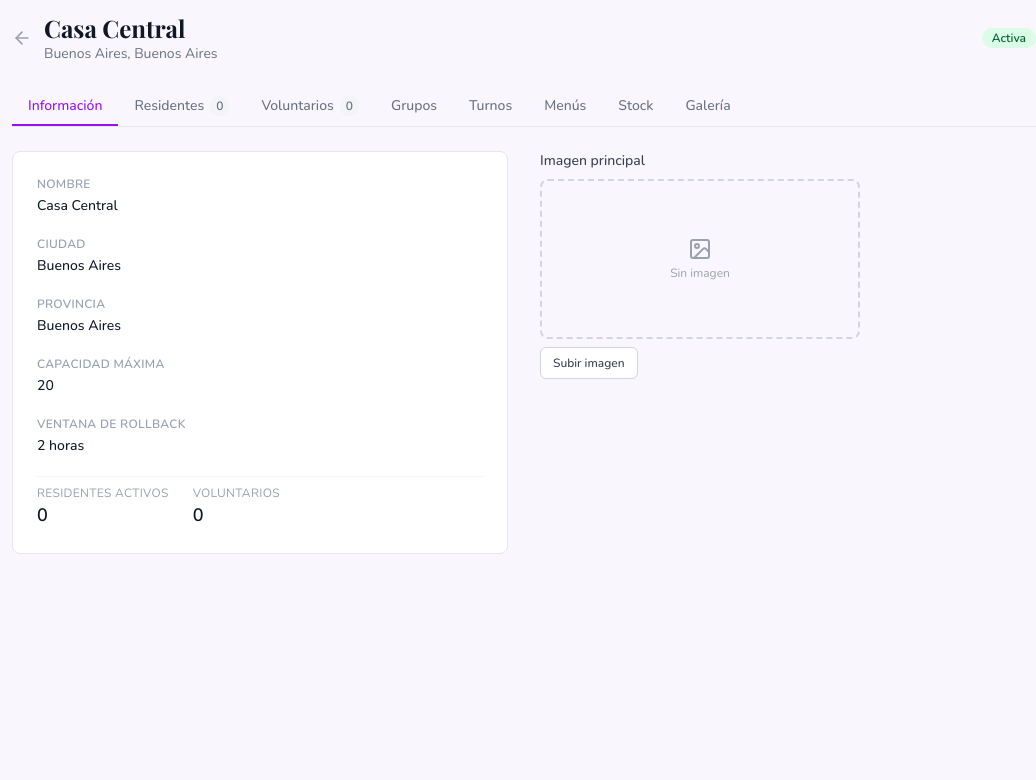
Test: ResidenciaDetailPage — tabs › cambia al tab Voluntarios al hacer clic
The image size is (1036, 780).
Click the tab "Voluntarios 0" at point(310, 107), box [245,88,375,126]
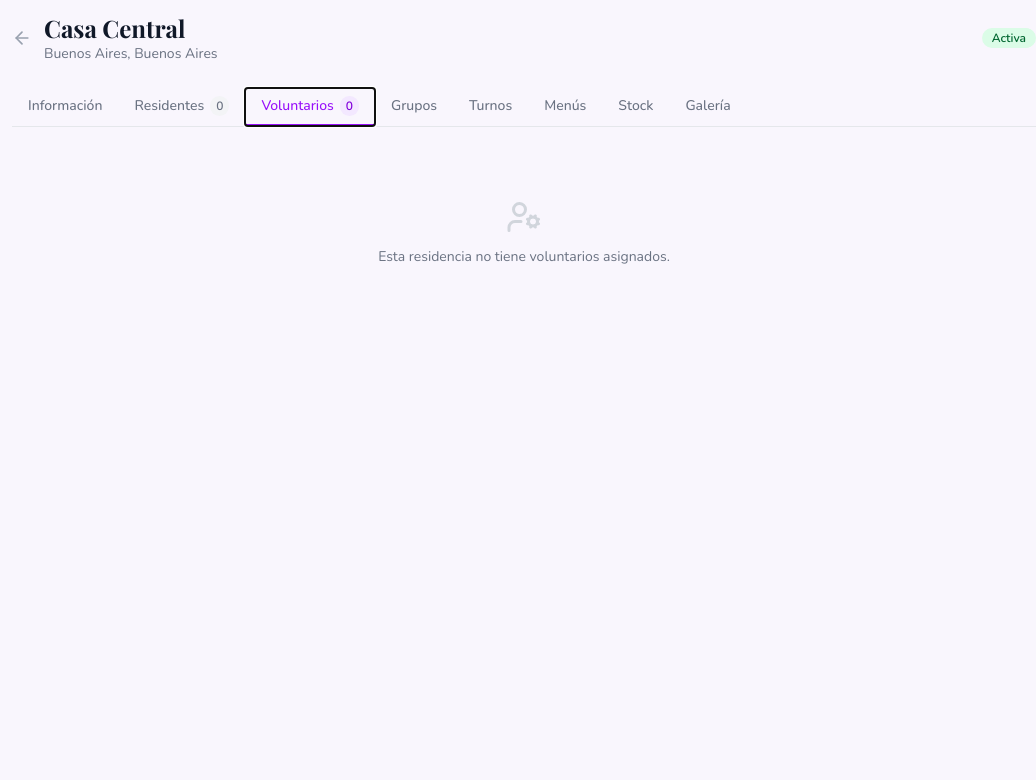
Expected: the text "Esta residencia no tiene voluntarios asignados." is shown, [378,247,670,267]
